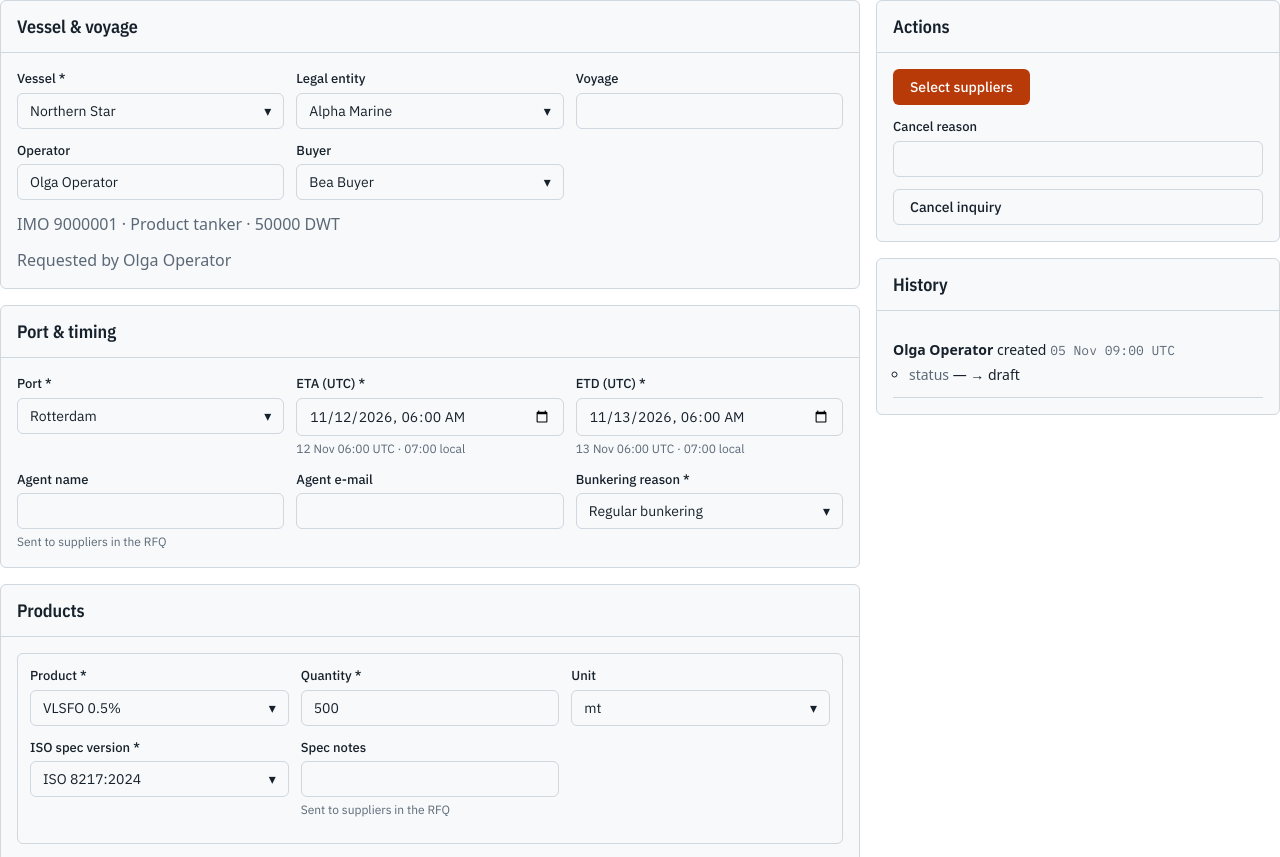
InquiryPage actions › [B2-R13] Save sends only what changed, with the current version
The image size is (1280, 857).
Type "Ahoy Agency" into the field labelled "Agent name" at (151,511), box [17,493,284,529]
(page scrolled)
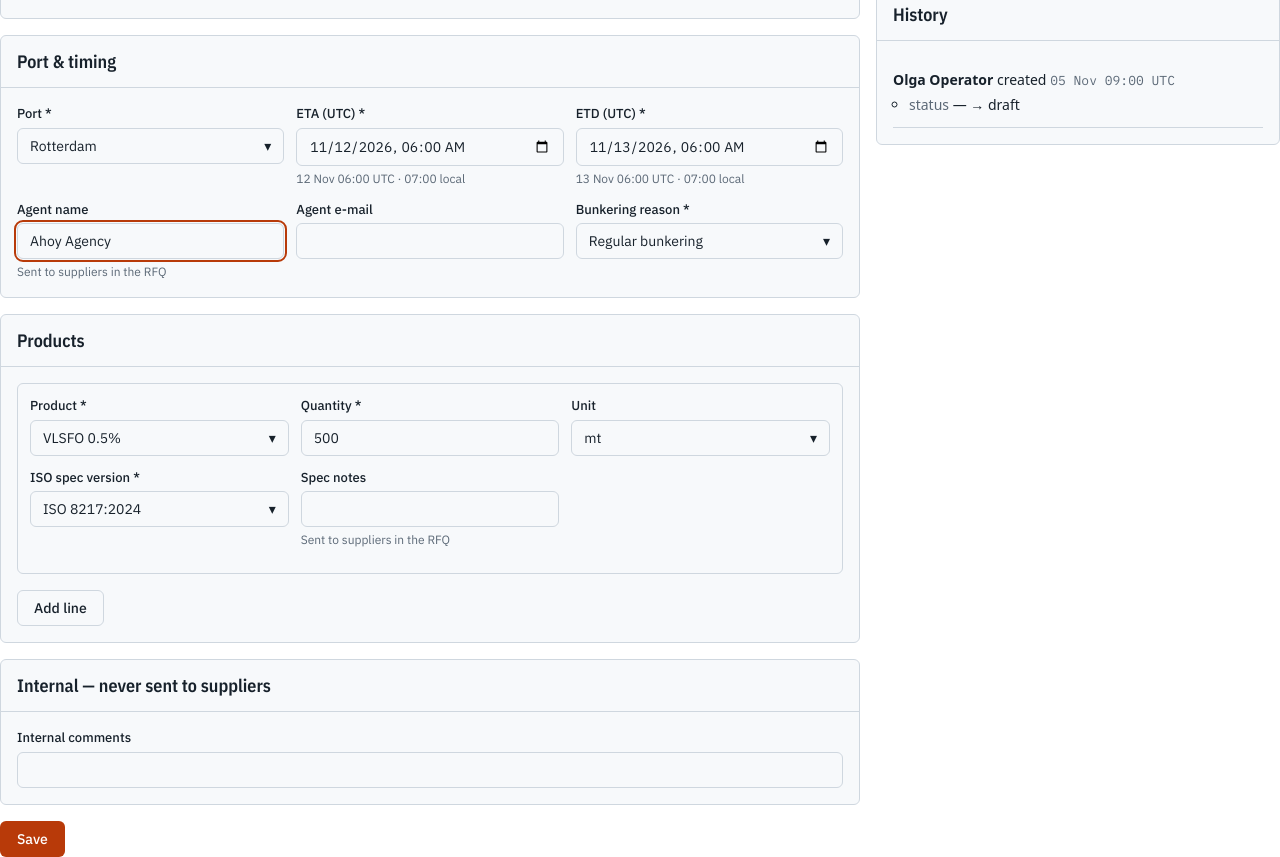
Click the button "Save" at (32,838), box [0,820,65,856]
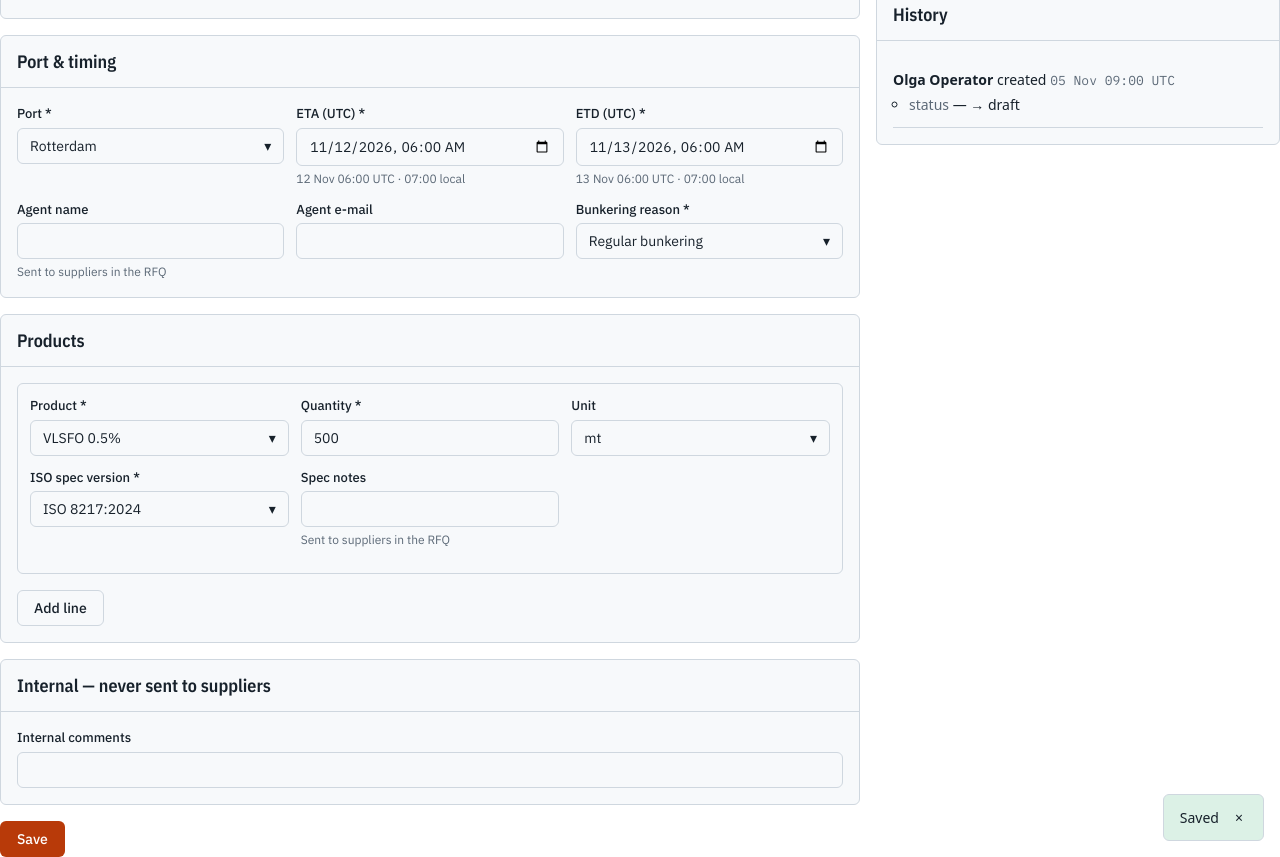
Now the text "Saved" is shown, box [1180,807,1219,828]
